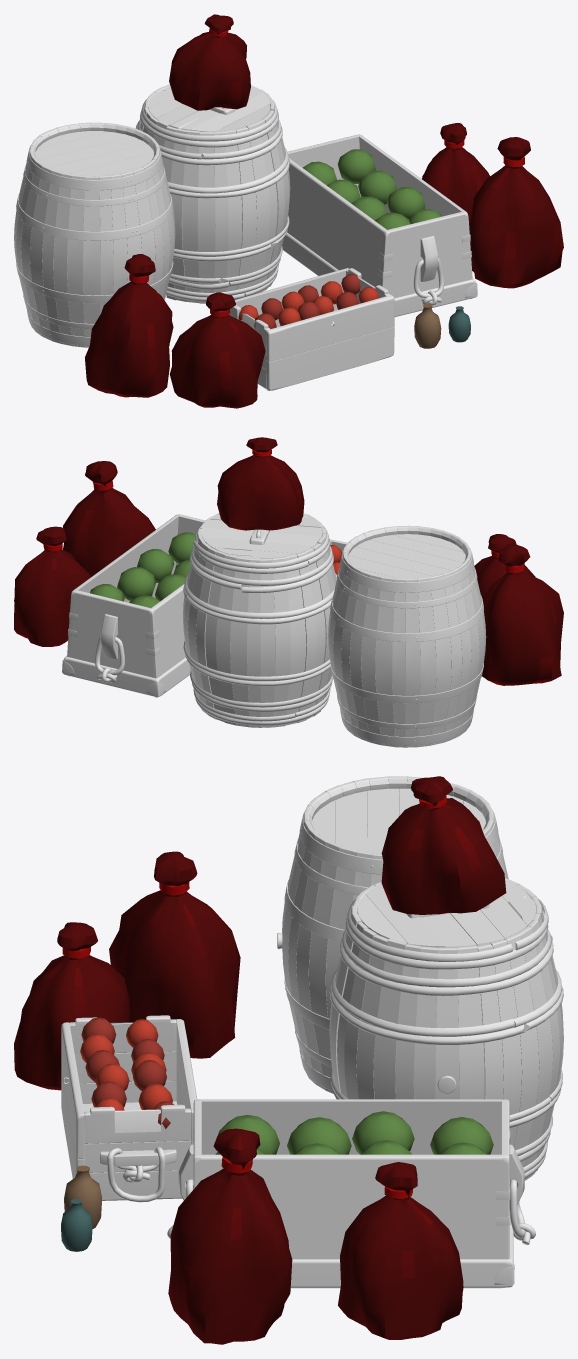
The model's file is SilverbrookPropMarketGoods.fbx.
3 renders of one model, top to bottom at view 1: azimuth 30°, elevation 25°; view 2: azimuth 150°, elevation 25°; view 3: azimuth 270°, elevation 25°, orthographic. The views are drawn at different scales.
Parts seen in each view (by area): view 1: SM_SBMarketGoods_Sacks, wooden_barrels_01_1, wine_barrel_01_0, wooden_crate_02_0, wooden_crate_01_0, SM_SBMarketGoods_Produce, wine_barrel_01_3, SM_SBMarketGoods_Jugs; view 2: wooden_barrels_01_1, SM_SBMarketGoods_Sacks, wine_barrel_01_0, wooden_crate_02_0, wine_barrel_01_3, SM_SBMarketGoods_Produce; view 3: SM_SBMarketGoods_Sacks, wooden_barrels_01_1, wooden_crate_02_0, wine_barrel_01_0, wooden_crate_01_0, SM_SBMarketGoods_Produce, wine_barrel_01_3, SM_SBMarketGoods_Jugs.
Part boxes in pixels (left/top/right/bottom): SM_SBMarketGoods_Sacks: left=85, top=14, right=563, bottom=408; wooden_barrels_01_1: left=135, top=84, right=290, bottom=303; wine_barrel_01_0: left=14, top=122, right=175, bottom=347; wooden_crate_02_0: left=282, top=134, right=477, bottom=316; wooden_crate_01_0: left=229, top=268, right=394, bottom=390; SM_SBMarketGoods_Produce: left=238, top=149, right=442, bottom=328; wine_barrel_01_3: left=35, top=131, right=153, bottom=176; SM_SBMarketGoods_Jugs: left=414, top=303, right=470, bottom=348; wooden_barrels_01_1: left=183, top=513, right=337, bottom=727; SM_SBMarketGoods_Sacks: left=14, top=437, right=563, bottom=685; wine_barrel_01_0: left=328, top=525, right=486, bottom=747; wooden_crate_02_0: left=62, top=514, right=204, bottom=697; wine_barrel_01_3: left=348, top=534, right=465, bottom=578; SM_SBMarketGoods_Produce: left=90, top=532, right=341, bottom=607; SM_SBMarketGoods_Sacks: left=14, top=776, right=506, bottom=1344; wooden_barrels_01_1: left=329, top=878, right=563, bottom=1180; wooden_crate_02_0: left=167, top=1099, right=535, bottom=1288; wine_barrel_01_0: left=282, top=776, right=508, bottom=1093; wooden_crate_01_0: left=61, top=1015, right=196, bottom=1202; SM_SBMarketGoods_Produce: left=80, top=1017, right=493, bottom=1154; wine_barrel_01_3: left=312, top=788, right=485, bottom=853; SM_SBMarketGoods_Jugs: left=61, top=1165, right=101, bottom=1251.
Bounding box in the file's own units: 259 × 135 × 174.
